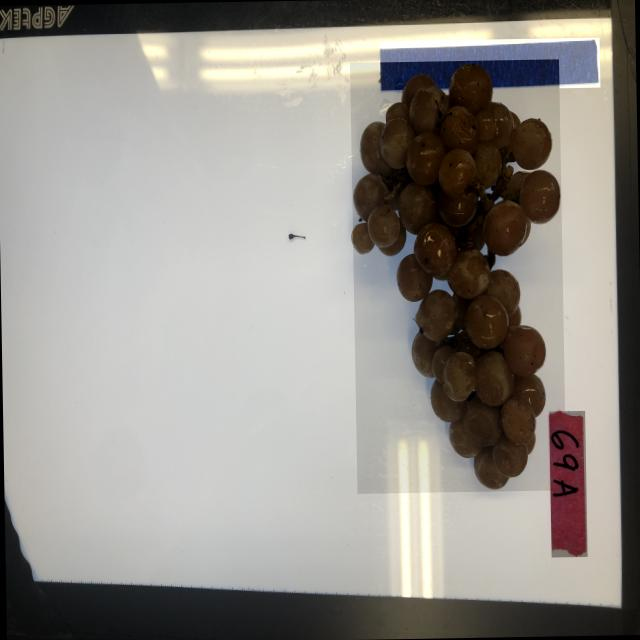grape_cluster: (349, 59, 565, 494)
index: (547, 410, 586, 557)
measure_label: (378, 37, 599, 91)
